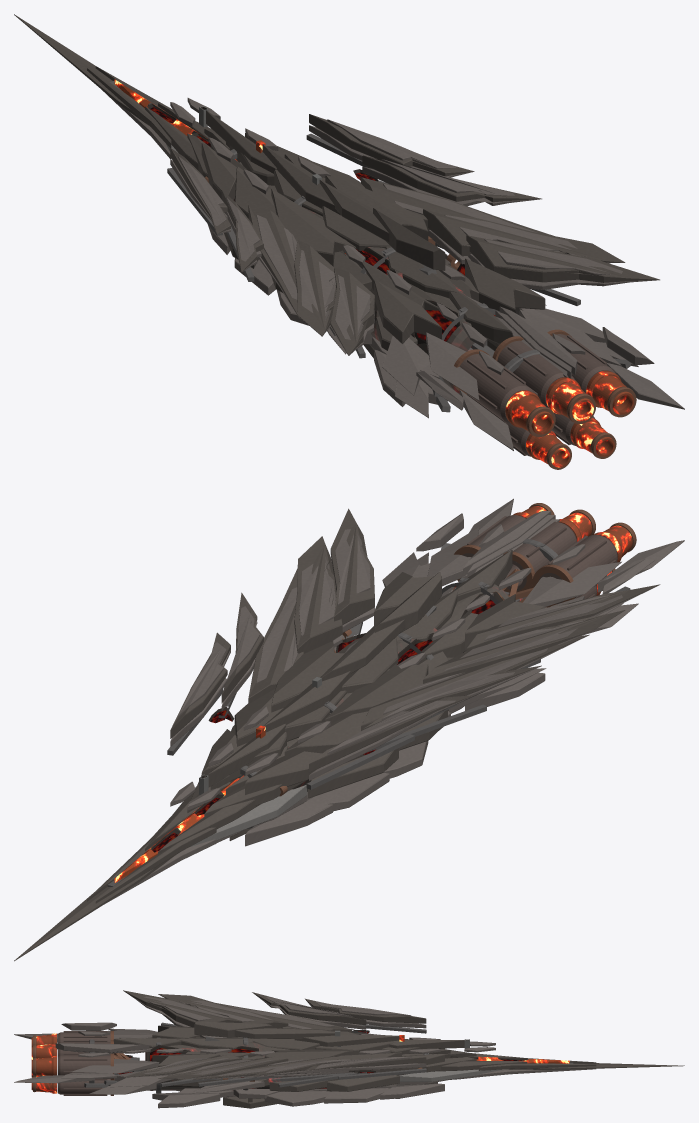
Rendered from s1_boss.glb.
The picture shows the model from 3 angles, top to bottom: view 1: azimuth 30°, elevation 25°; view 2: azimuth 150°, elevation 25°; view 3: azimuth 270°, elevation 25°; orthographic projection. The views are drawn at different scales.
Parts seen in each view (by area): view 1: P06-ArmorPanel2, P06-ArmorPanel1, P02-ShoulderUpper5_-1, P02-ShoulderUpper2_-1, P02-ShoulderUpper5_1, P05-ArmorPanel1, P09-E0_Housing, P02-ShoulderUpper2_1, P07-SecondaryPlate1, P03-RearFin, P06-ArmorPanel3, P05-ArmorPanel2 (+44 smaller); view 2: P06-ArmorPanel1, P05-ArmorPanel1, P06-ArmorPanel2, P02-ShoulderUpper2_-1, P05-ArmorPanel2, P02-ShoulderUpper2_1, P06-ArmorPanel0, P07-SecondaryPlate2, P03-SpineUpper2, P02-ShoulderUpper0_-1, P03-SpineUpper1, P02-ShoulderLower0_-1 (+45 smaller); view 3: P05-ArmorPanel2, P03-SpineUpper2, P03-SpineUpper1, P05-ArmorPanel1, P06-ArmorPanel1, P03-RearFin, P02-ShoulderLower5_1, P02-SideArmor0_1, P02-ShoulderLower2_1, P08-SecondaryPlate2, P02-ShoulderLower1_1, P02-ShoulderUpper2_1 (+66 smaller).
Part boxes in pixels (<box>): P06-ArmorPanel2: <box>466,235,659,282</box>; P06-ArmorPanel1: <box>423,209,624,262</box>; P02-ShoulderUpper5_-1: <box>374,280,441,343</box>; P02-ShoulderUpper2_-1: <box>271,189,356,266</box>; P02-ShoulderUpper5_1: <box>465,258,545,312</box>; P05-ArmorPanel1: <box>294,240,336,336</box>; P09-E0_Housing: <box>459,354,534,424</box>; P02-ShoulderUpper2_1: <box>325,175,428,240</box>; P07-SecondaryPlate1: <box>382,336,439,395</box>; P03-RearFin: <box>373,208,445,270</box>; P06-ArmorPanel3: <box>362,155,541,202</box>; P05-ArmorPanel2: <box>330,267,374,355</box>; P06-ArmorPanel1: <box>294,536,342,653</box>; P05-ArmorPanel1: <box>423,610,624,683</box>; P06-ArmorPanel2: <box>330,508,374,624</box>; P02-ShoulderUpper2_-1: <box>325,664,428,723</box>; P05-ArmorPanel2: <box>466,584,659,653</box>; P02-ShoulderUpper2_1: <box>271,641,344,712</box>; P06-ArmorPanel0: <box>248,568,303,704</box>; P07-SecondaryPlate2: <box>523,561,621,606</box>; P03-SpineUpper2: <box>320,612,405,681</box>; P02-ShoulderUpper0_-1: <box>245,751,322,794</box>; P03-SpineUpper1: <box>263,669,358,732</box>; P02-ShoulderLower0_-1: <box>245,795,333,846</box>; P05-ArmorPanel2: <box>123,990,242,1027</box>; P03-SpineUpper2: <box>234,1028,334,1039</box>; P03-SpineUpper1: <box>294,1034,399,1046</box>; P05-ArmorPanel1: <box>158,994,288,1028</box>; P06-ArmorPanel1: <box>158,1056,288,1078</box>; P03-RearFin: <box>194,1021,272,1037</box>; P02-ShoulderLower5_1: <box>152,1092,220,1108</box>; P02-SideArmor0_1: <box>327,1075,399,1091</box>; P02-ShoulderLower2_1: <box>264,1089,331,1106</box>; P08-SecondaryPlate2: <box>70,1059,159,1073</box>; P02-ShoulderLower1_1: <box>313,1086,389,1103</box>; P02-ShoulderUpper2_1: <box>264,1049,359,1060</box>.
Size of the model in its own units: 30.84 by 13.86 by 100.
Materials: 39 (38 with a texture image).
